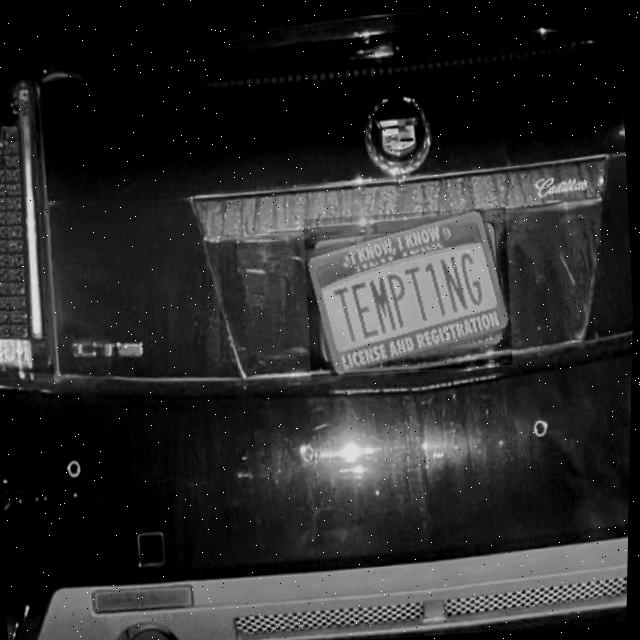LicensePlate: (307, 208, 512, 375)
